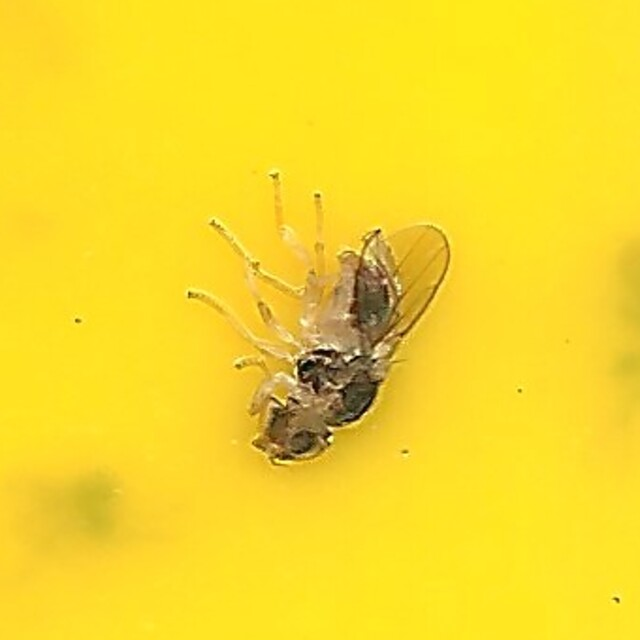Brachycera: (188, 174, 452, 466)
